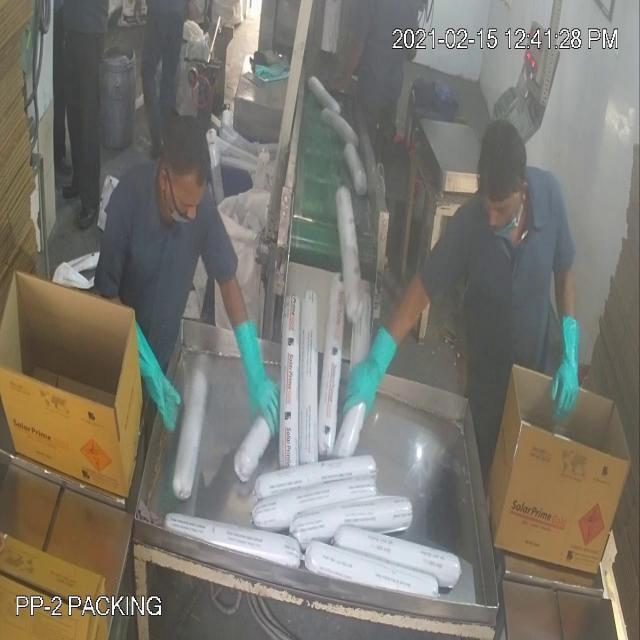Gloves: (36, 66, 566, 388)
